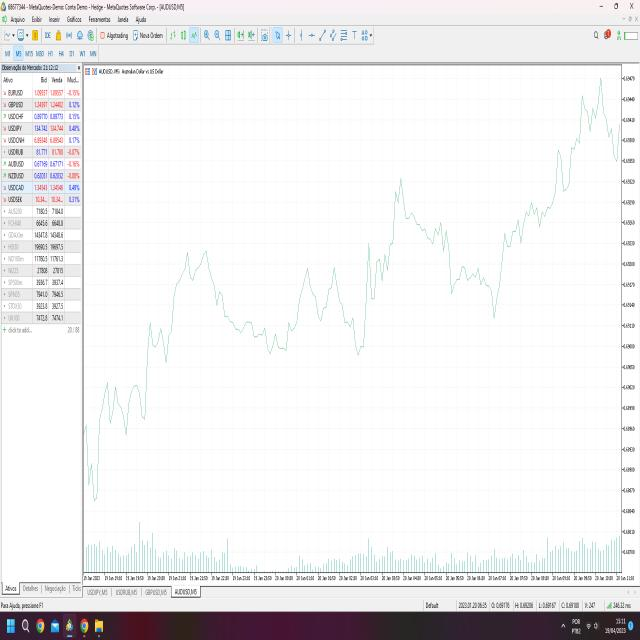bandeira_alta: (142, 300, 170, 432)
topo_duplo: (290, 224, 356, 391)
